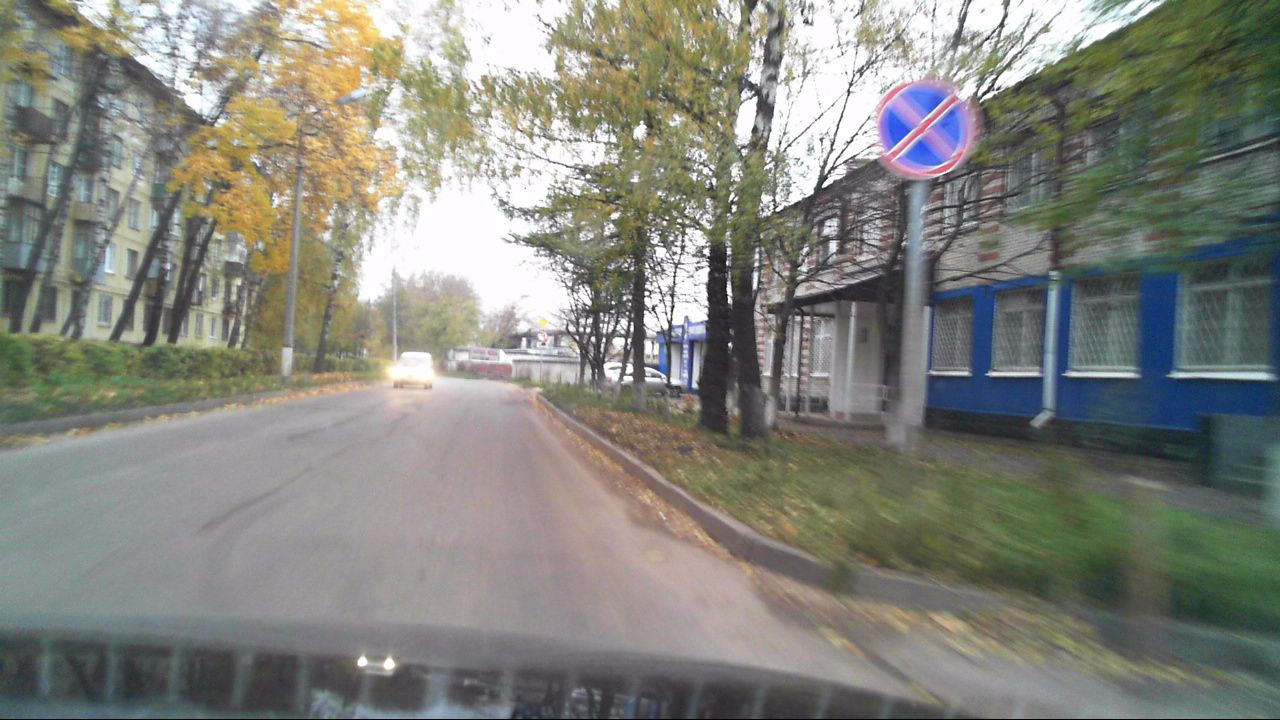No Parking: (875, 83, 973, 179)
